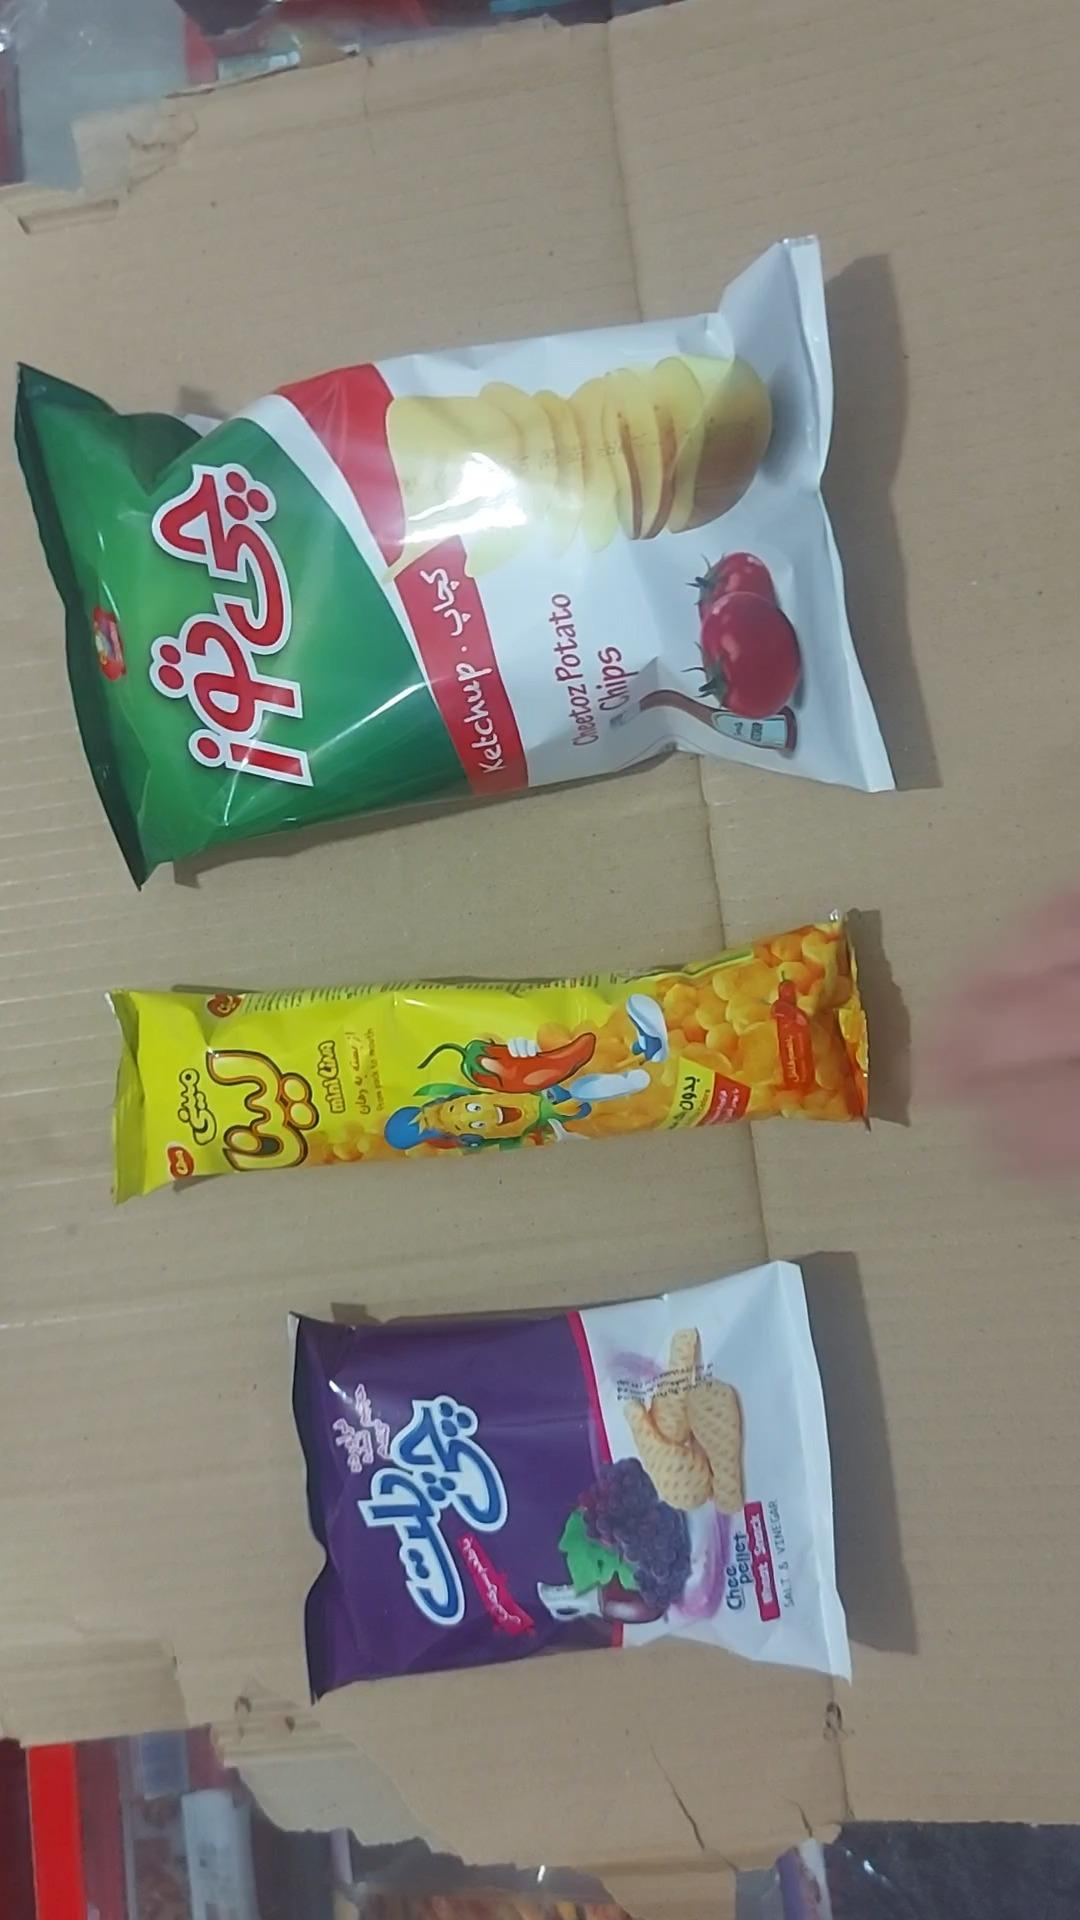Chee pellet vinegar: (289, 1262, 851, 1700)
Cheetoz ketchup chips: (15, 241, 893, 884)
Mini Lina: (109, 916, 868, 1203)
